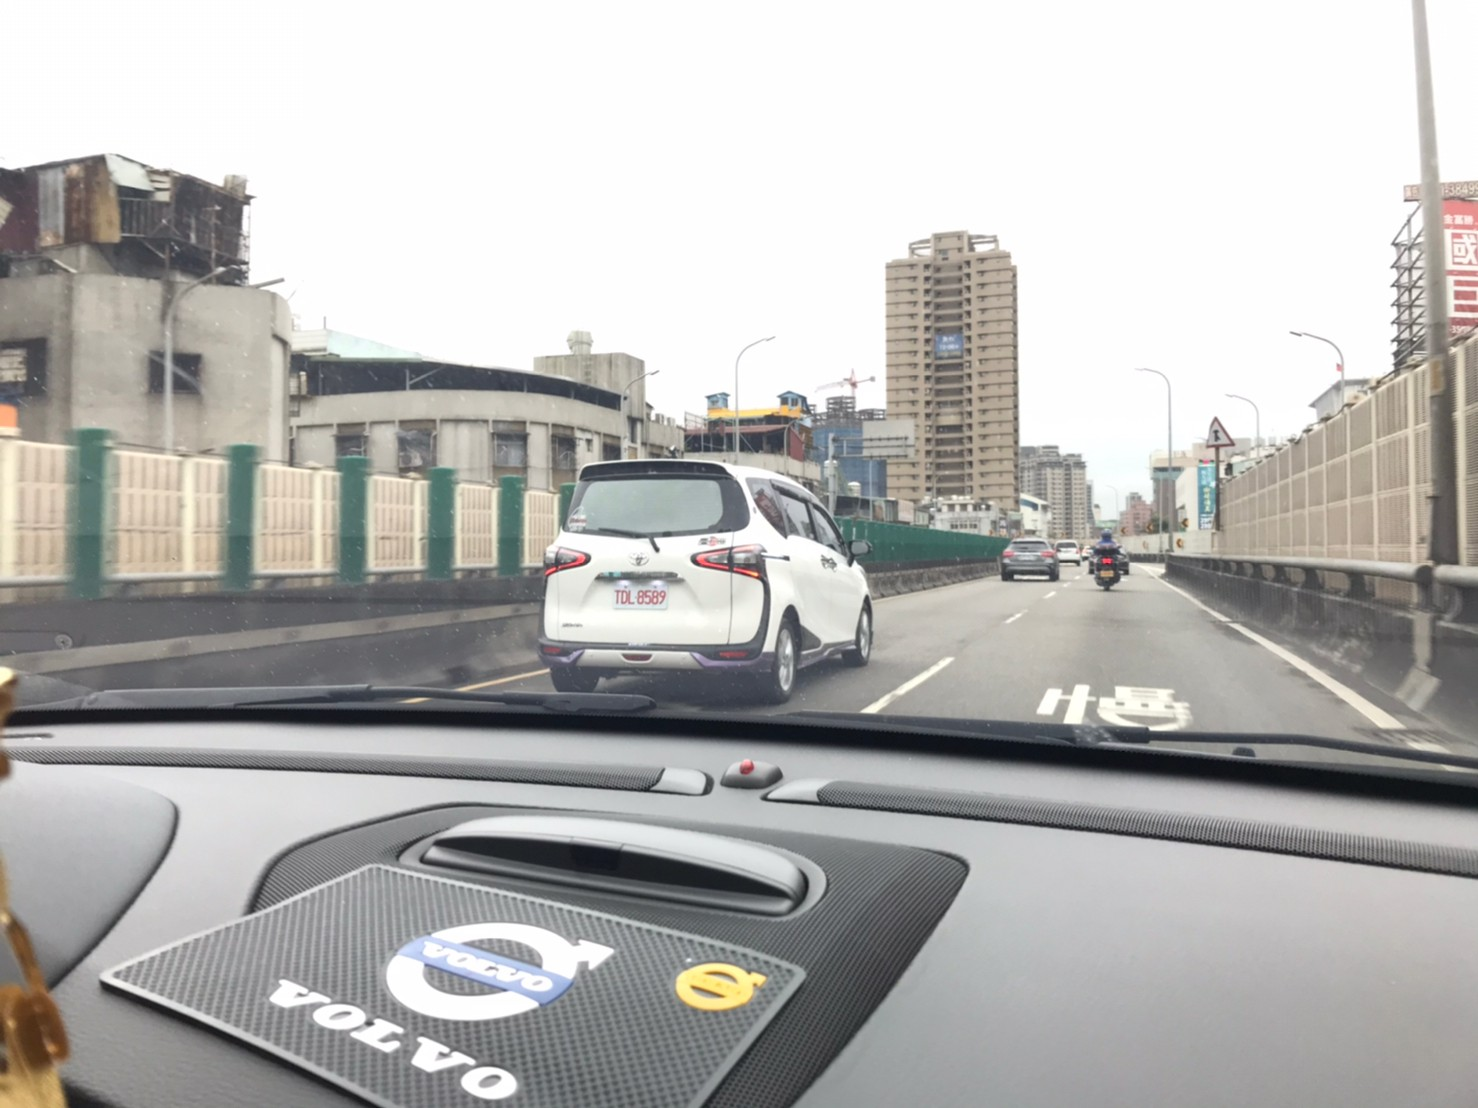LP: (611, 575, 672, 608)
